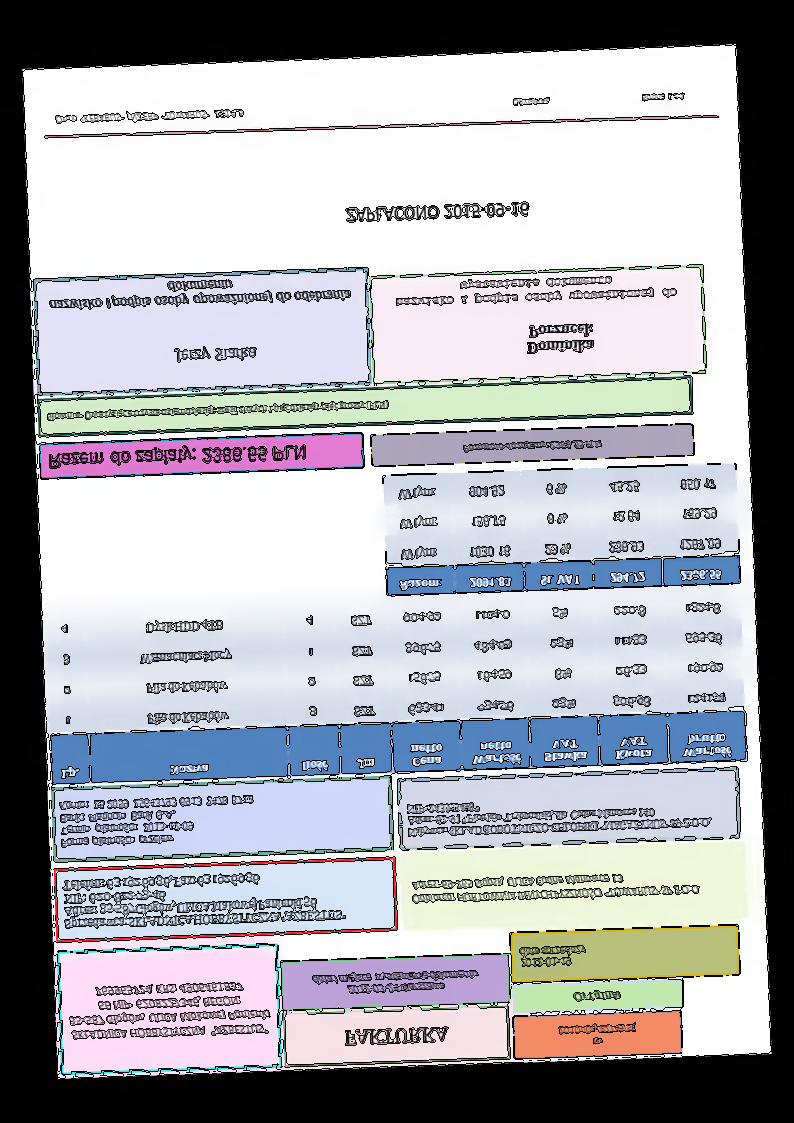Table: (44, 587, 749, 787), (380, 461, 742, 599)
TextBox: (59, 865, 350, 935), (404, 791, 713, 842), (64, 977, 274, 1044), (57, 790, 258, 852), (47, 274, 354, 313), (392, 271, 681, 312), (409, 867, 703, 907), (44, 396, 392, 425), (46, 442, 307, 472), (309, 966, 481, 999), (343, 200, 534, 226), (54, 105, 247, 128), (509, 89, 688, 110), (523, 319, 599, 358), (460, 436, 604, 456), (341, 1024, 449, 1049), (554, 1020, 639, 1050), (170, 342, 260, 367), (518, 942, 588, 972), (570, 987, 623, 1007)
